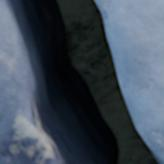broken_brick: (97, 0, 163, 161), (0, 0, 54, 163)
crack: (2, 0, 163, 163)
